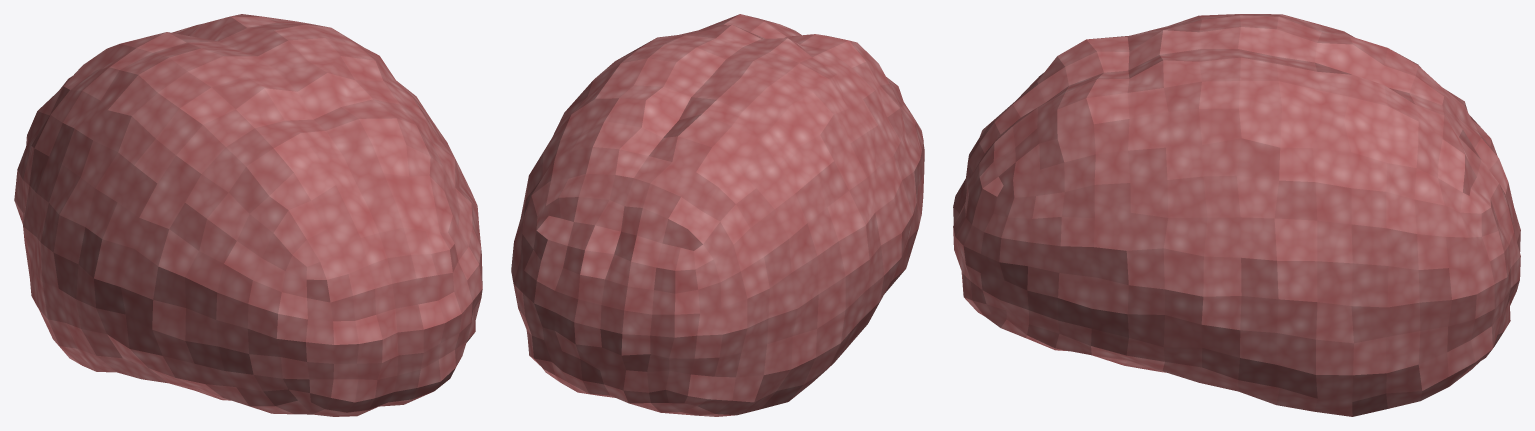
Rendered from brain.fbx.
3 renders of one model, left to right at view 1: azimuth 30°, elevation 25°; view 2: azimuth 150°, elevation 25°; view 3: azimuth 270°, elevation 25°, orthographic. The views are drawn at different scales.
Parts seen in each view (by area): view 1: brain-low; view 2: brain-low; view 3: brain-low.
Part boxes in pixels (bbox=[...]): brain-low: bbox=[14, 14, 482, 416]; brain-low: bbox=[511, 14, 924, 416]; brain-low: bbox=[953, 14, 1520, 416].
Size of the model in its own units: 268 by 229 by 367.
